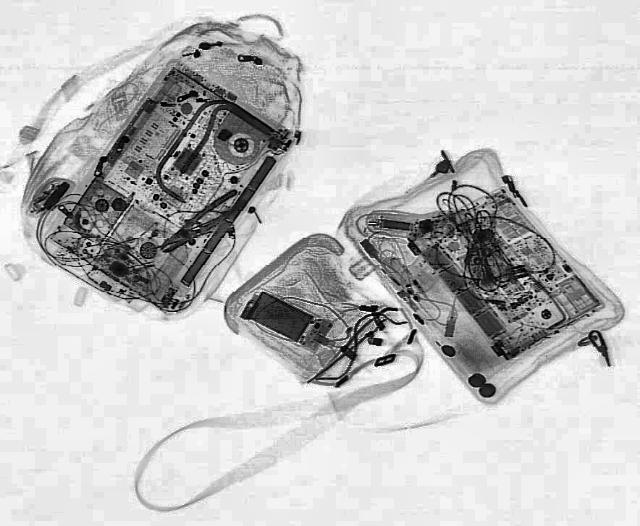Pliers: (146, 186, 252, 260)
